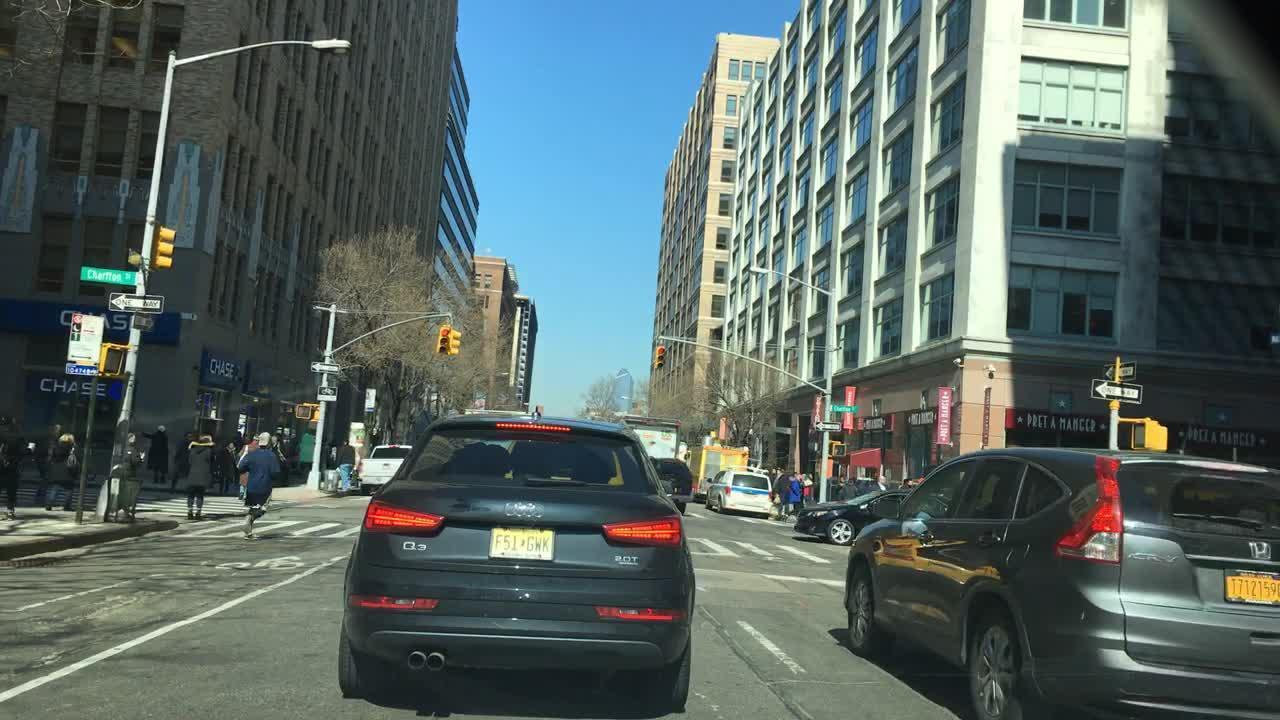Audi: (502, 501, 549, 519)
Honda: (1246, 538, 1276, 566)
